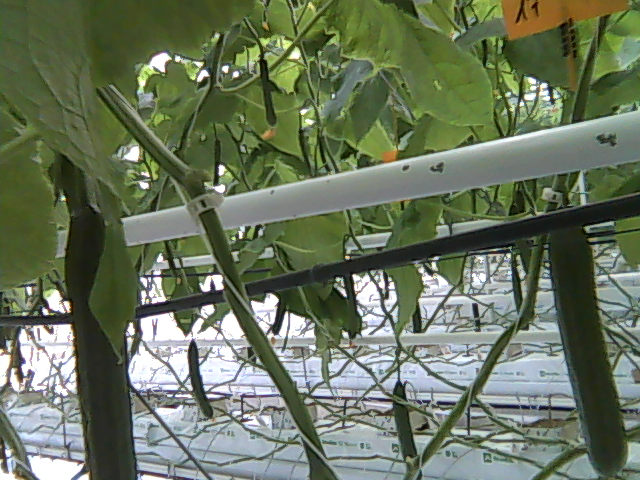concombre: (543, 193, 635, 480), (63, 198, 141, 480)
